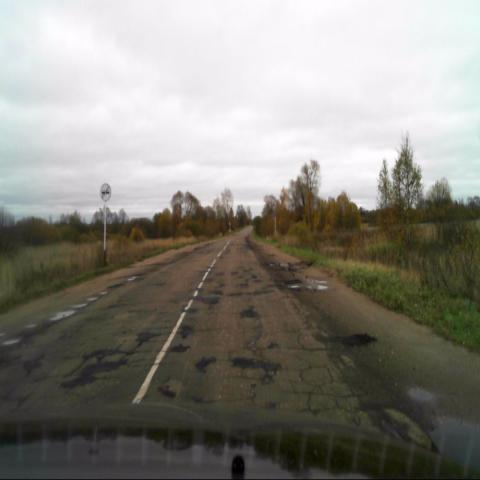3_21: (99, 182, 111, 202)
